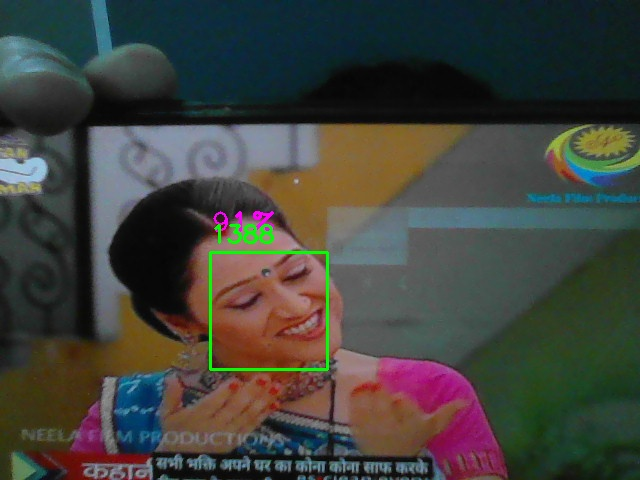fake: (210, 252, 328, 370)
